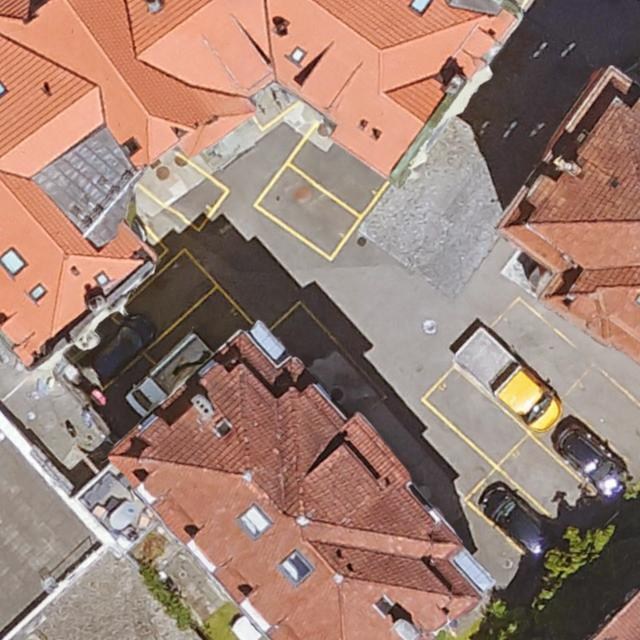tree: (530, 518, 640, 640)
